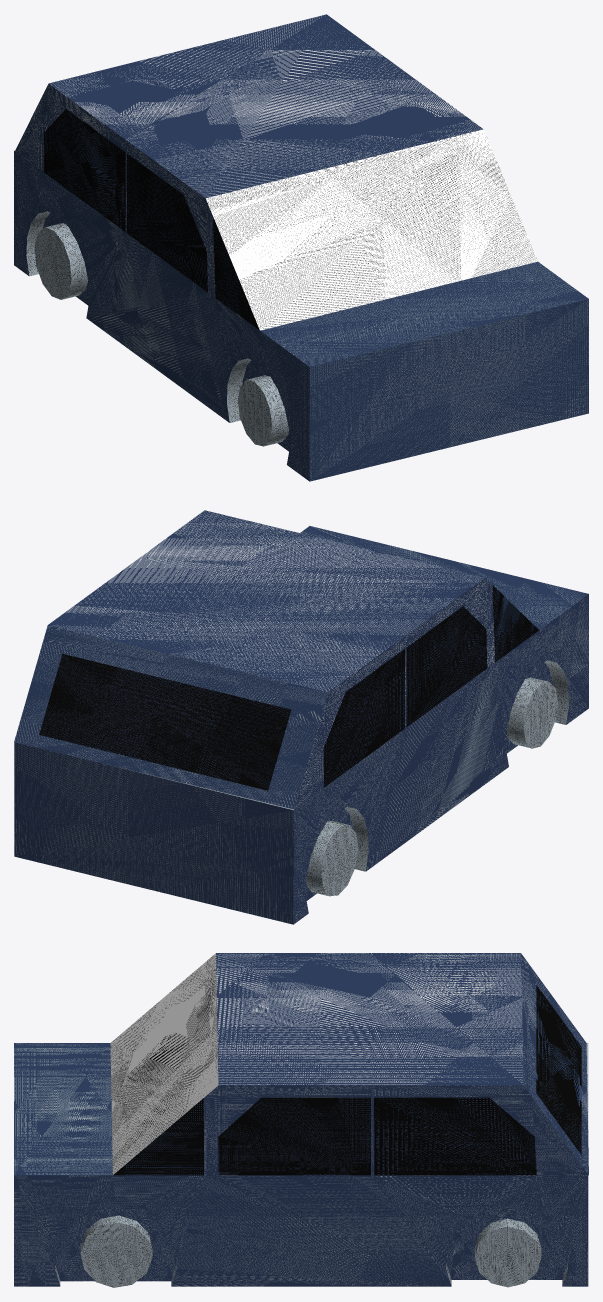
The model's file is car_blue.fbx.
The picture shows the model from 3 angles, top to bottom: view 1: azimuth 30°, elevation 25°; view 2: azimuth 150°, elevation 25°; view 3: azimuth 270°, elevation 25°; orthographic projection. The views are drawn at different scales.
Parts seen in each view (by area): view 1: Model; view 2: Model; view 3: Model.
Part boxes in pixels (x1,y1,x2,y2): Model: (14,14,588,481); Model: (14,510,588,924); Model: (14,953,588,1287).
Bounding box in the file's own units: 211 × 146 × 378.
